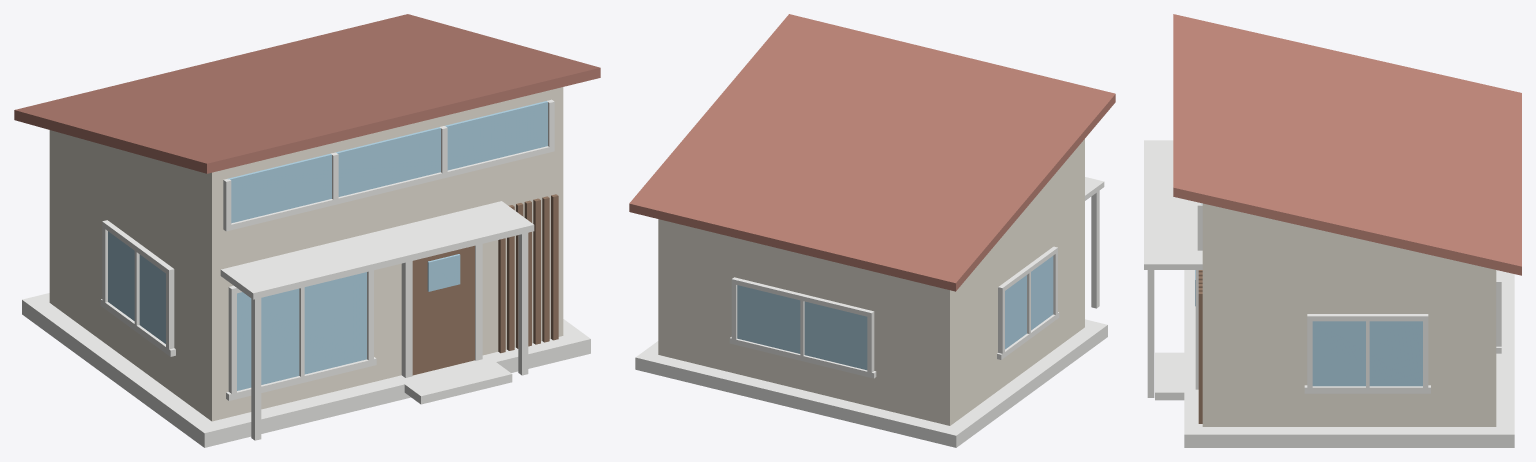
The model's file is rumah_e.fbx.
3 views of the same model, side by side, from view 1: azimuth 30°, elevation 25°; view 2: azimuth 150°, elevation 25°; view 3: azimuth 270°, elevation 25° (orthographic). The views are drawn at different scales.
Parts seen in each view (by area): view 1: ShellWall, ShellRoof, ShellTrim, ShellGlass, ShellDoor; view 2: ShellRoof, ShellWall, ShellTrim, ShellGlass; view 3: ShellRoof, ShellWall, ShellTrim, ShellGlass, ShellDoor.
Boxes of the visible parts, x1,y1,x2,y2 form: ShellWall: [49, 87, 563, 421]; ShellRoof: [14, 14, 600, 173]; ShellTrim: [22, 99, 590, 447]; ShellGlass: [108, 100, 548, 390]; ShellDoor: [412, 194, 558, 375]; ShellRoof: [629, 14, 1115, 291]; ShellWall: [658, 139, 1084, 425]; ShellTrim: [635, 177, 1107, 447]; ShellGlass: [737, 256, 1053, 370]; ShellRoof: [1173, 14, 1521, 275]; ShellWall: [1202, 203, 1496, 426]; ShellTrim: [1144, 140, 1514, 447]; ShellGlass: [1195, 203, 1422, 386]; ShellDoor: [1198, 270, 1202, 423].
Size of the model in its own units: 22.4 by 15.75 by 20.6.
